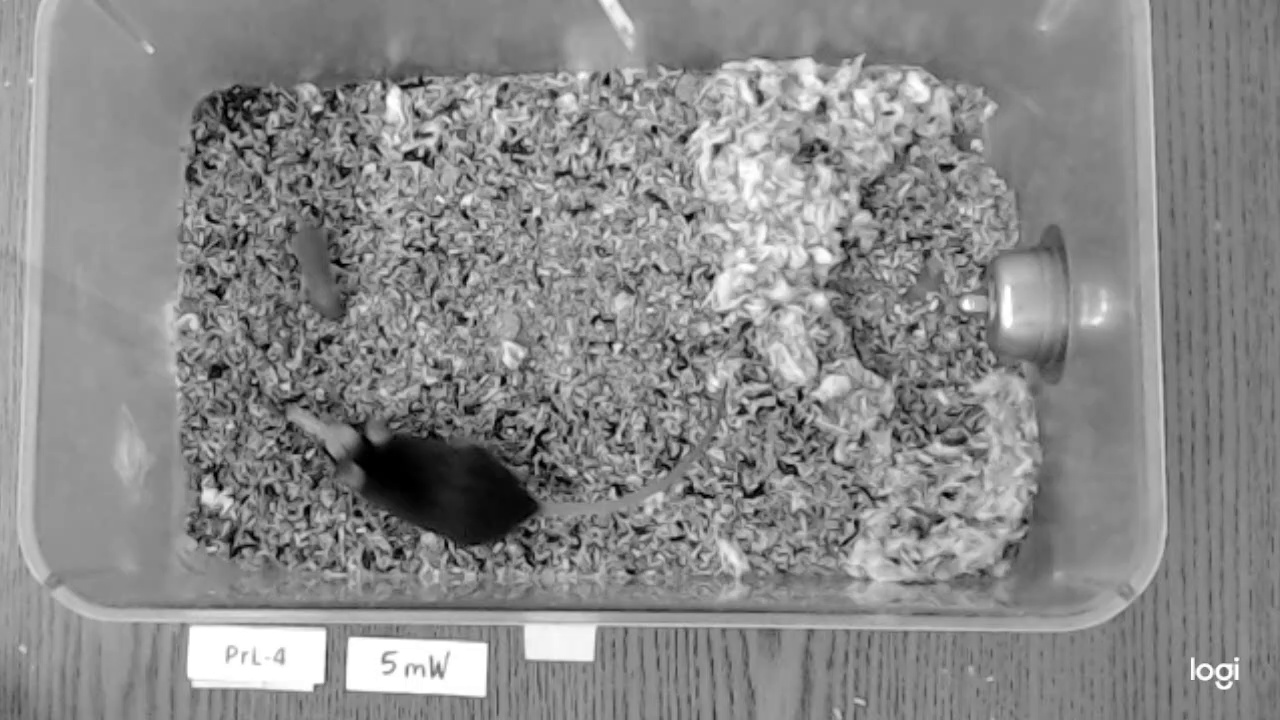parent-mice: (333, 415, 540, 545)
